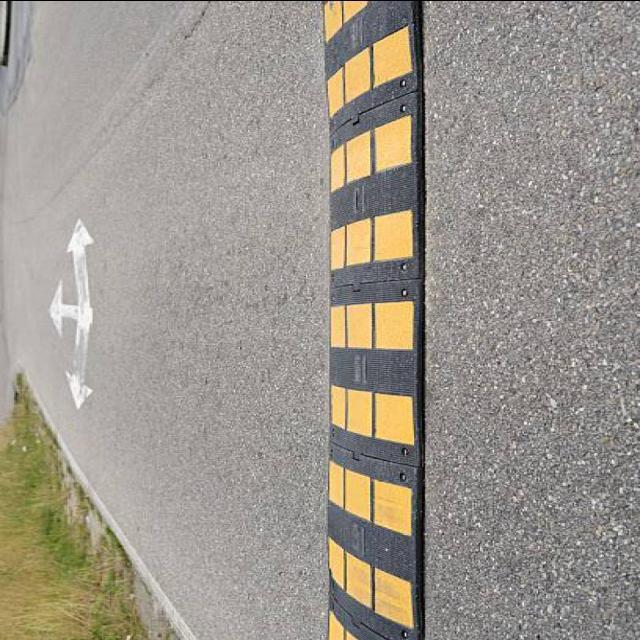Speed_Breaker: (312, 0, 437, 640), (322, 0, 422, 639)
